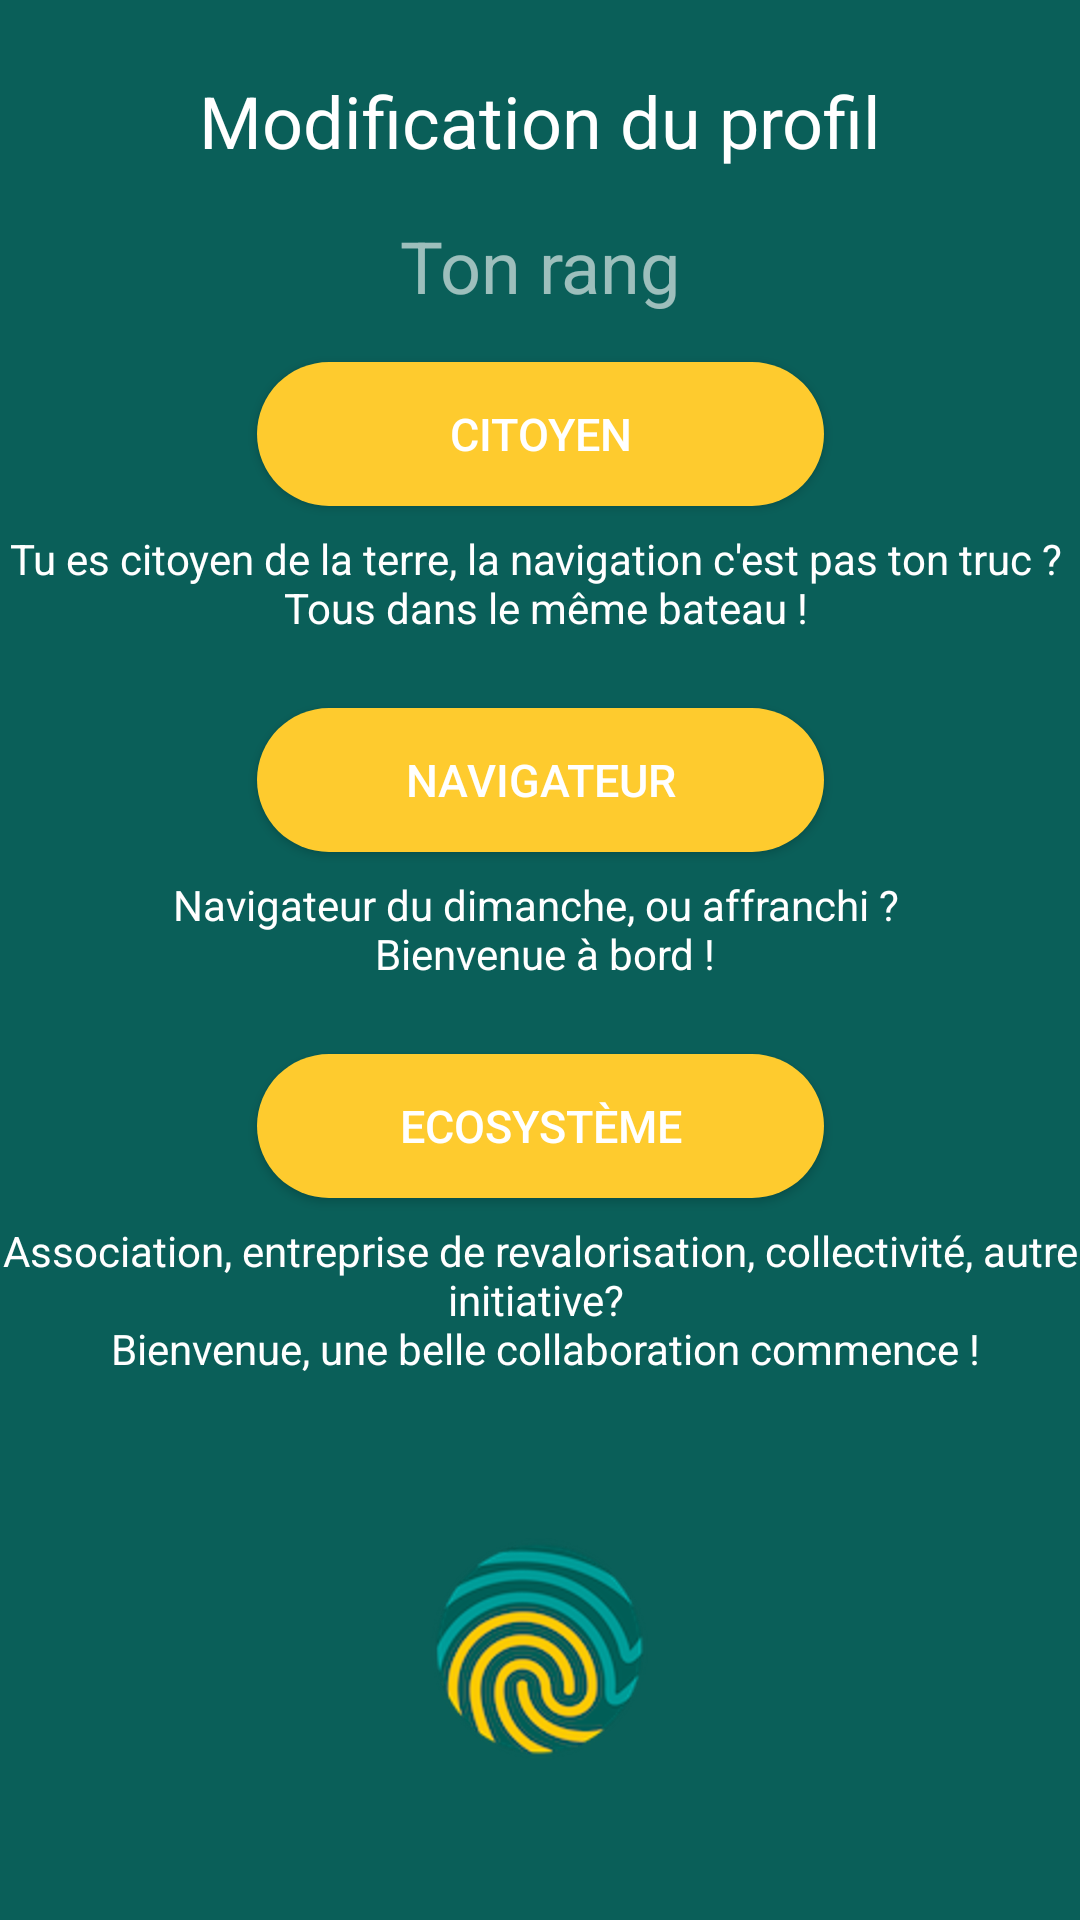

Screen size 1080×1920. Icon name, then its box in pixels as bbox=(x1, y1, x2, y2):
empreinte: bbox=(437, 1551, 642, 1754)
